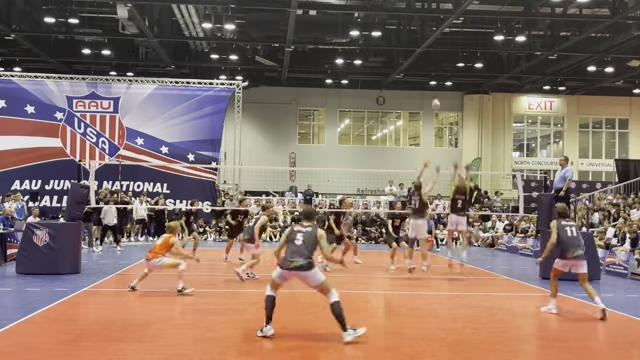Attack: (466, 163, 479, 249)
Block: (445, 162, 483, 272), (401, 161, 435, 279)
Player: (257, 208, 365, 342), (537, 203, 606, 319), (129, 222, 198, 294), (235, 204, 274, 280), (336, 198, 362, 263), (223, 198, 249, 261), (385, 202, 408, 269), (181, 200, 200, 254), (325, 204, 342, 253)
ball: (431, 98, 442, 110)
